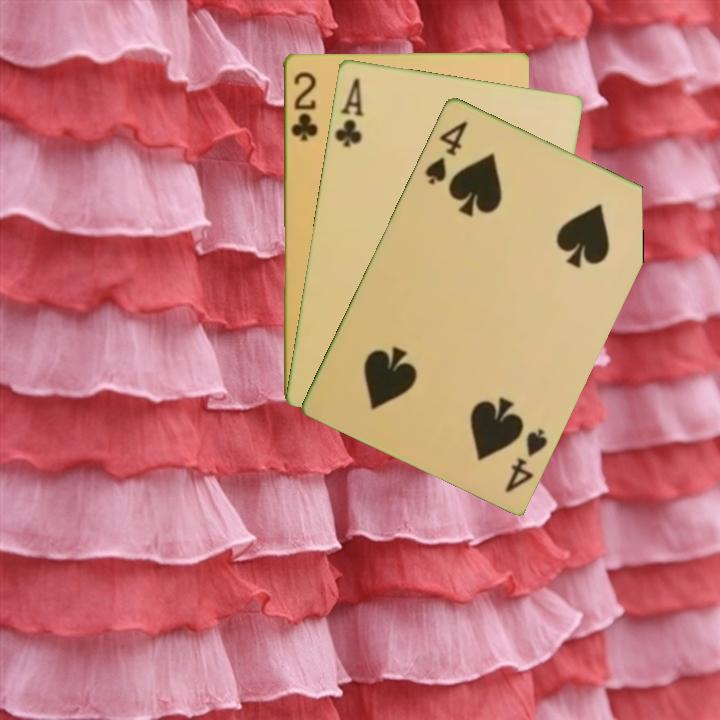2c: (287, 68, 320, 144)
4s: (501, 424, 550, 496), (421, 117, 471, 187)
Ac: (331, 73, 367, 150)
